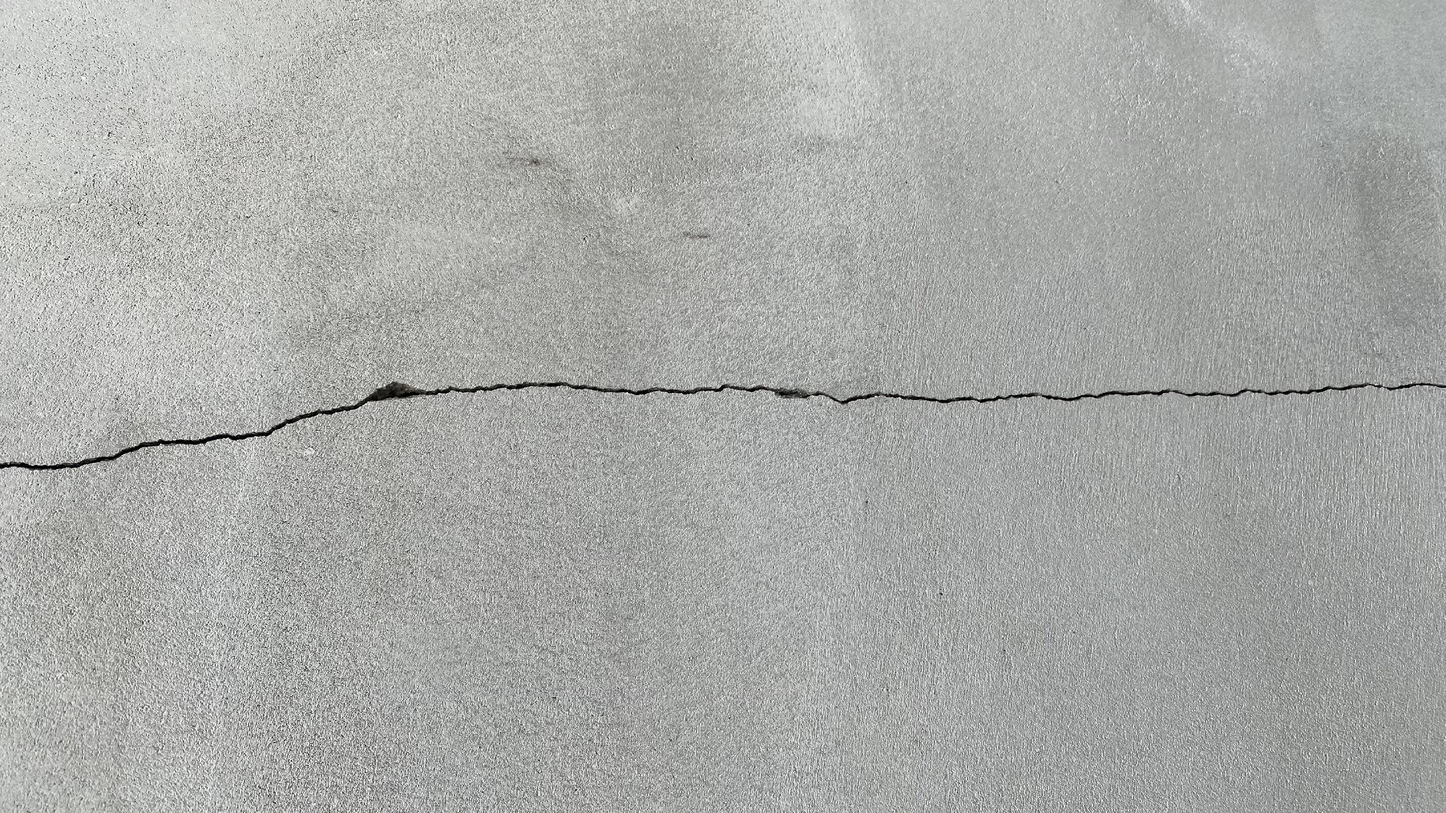crack: (1, 379, 1443, 474)
